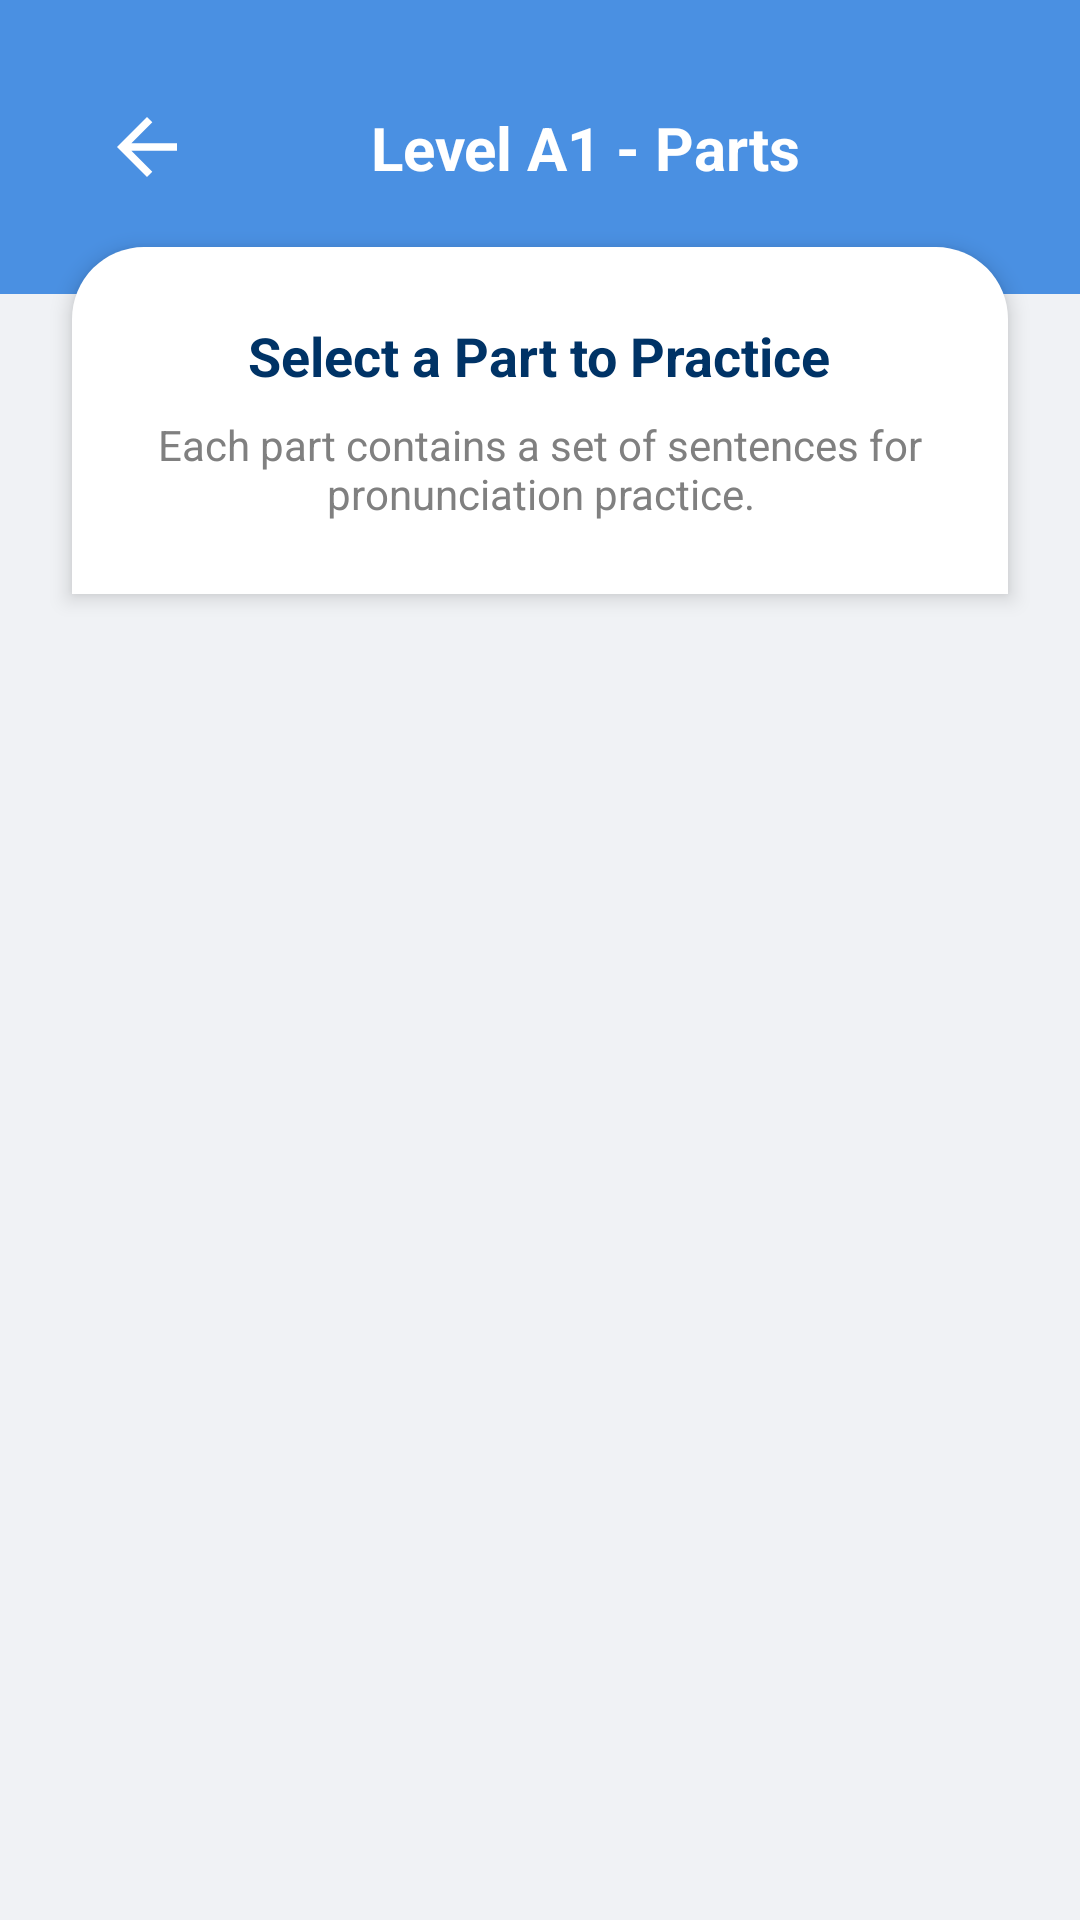

Icons on this 1080 x 1920 Android screen, each with the point to tap as (x=x, y=y):
arrow back: (x=147, y=147)
